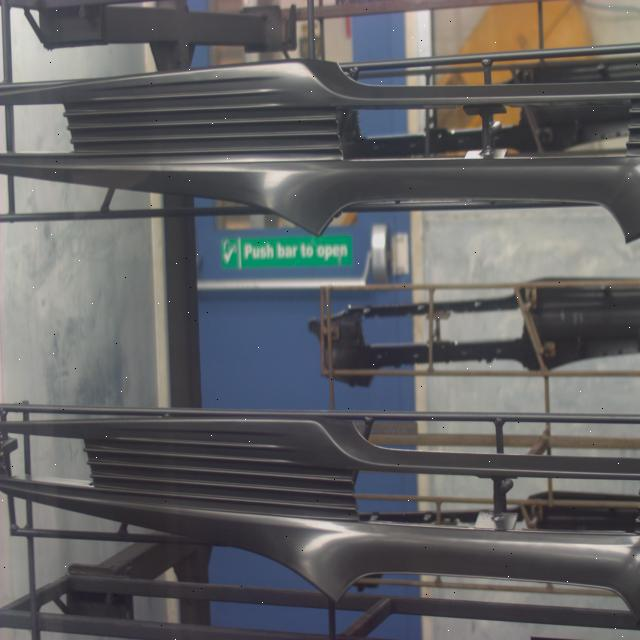Non_primered: (0, 404, 640, 617), (1, 58, 640, 245)
